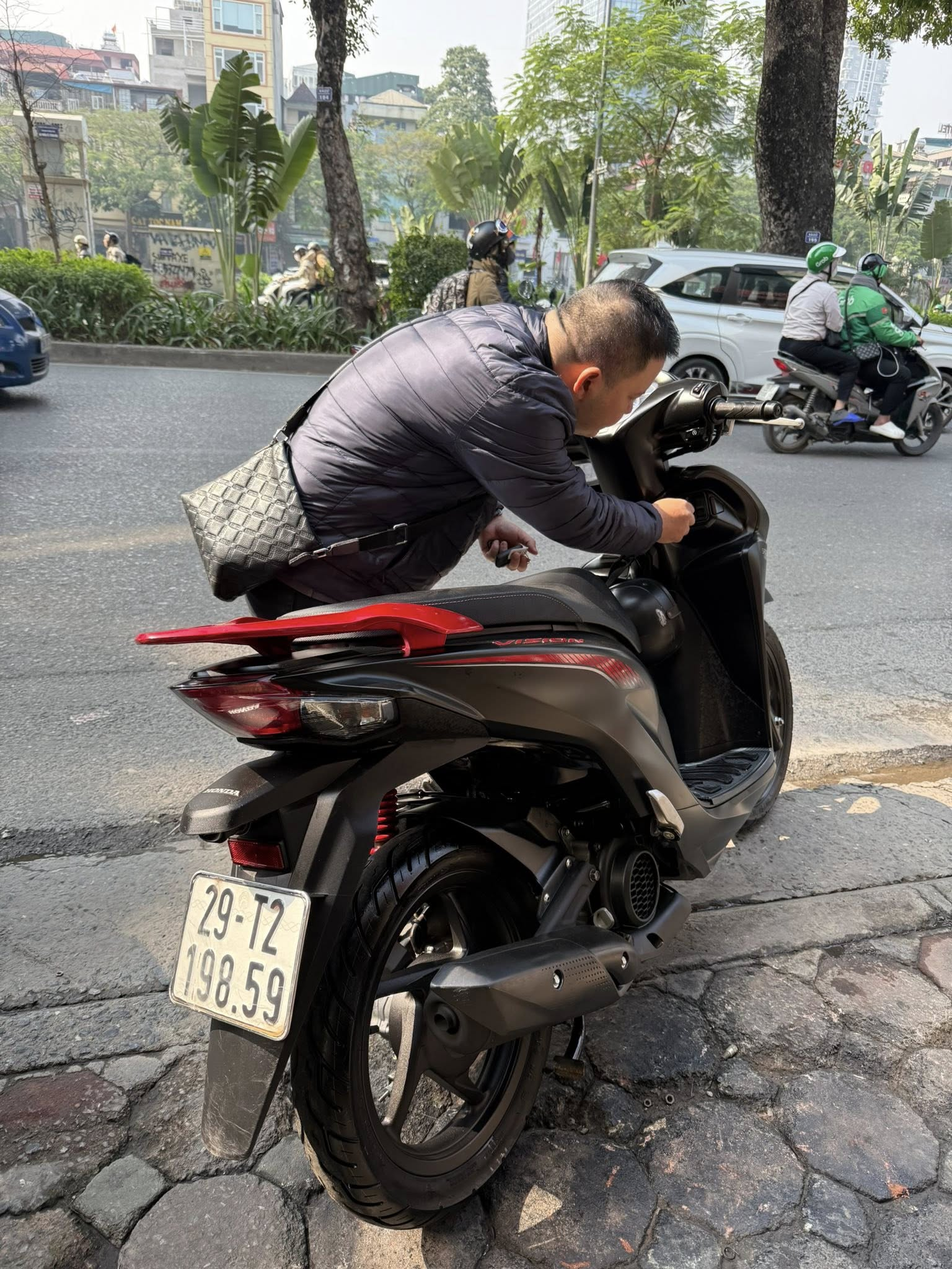bien_so: (165, 865, 326, 1049)
